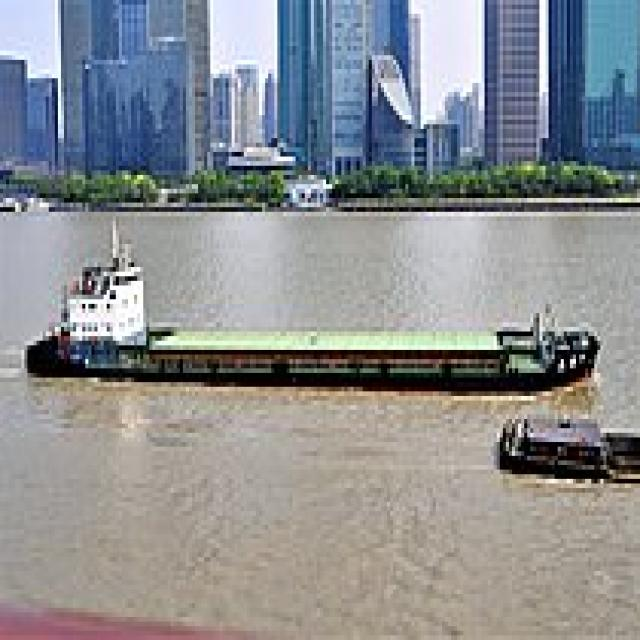Cargo: (21, 208, 598, 392)
